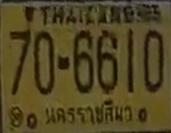0: (142, 30, 164, 92), (33, 30, 54, 94)
1: (126, 29, 134, 93)
6: (96, 30, 117, 92), (73, 30, 93, 92)
7: (9, 29, 30, 96)
NMA: (44, 98, 137, 128)
